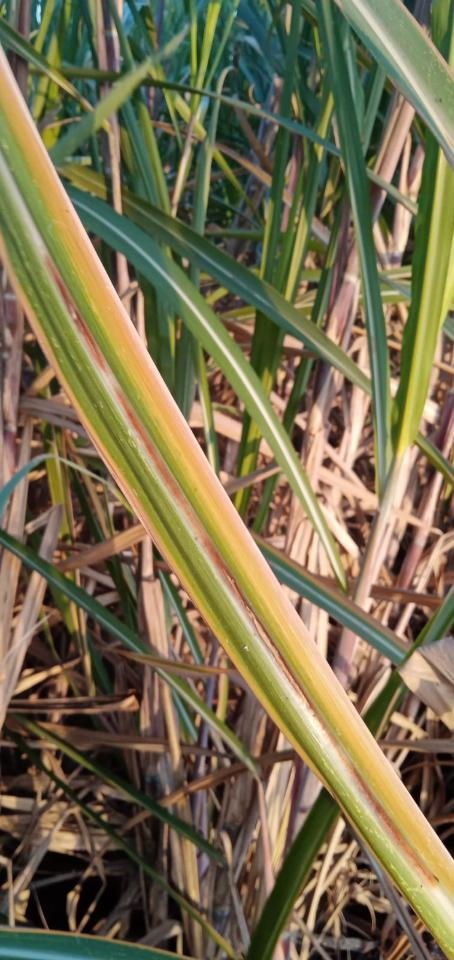RedRot: (45, 254, 442, 890)
Yellow: (0, 43, 454, 902)
